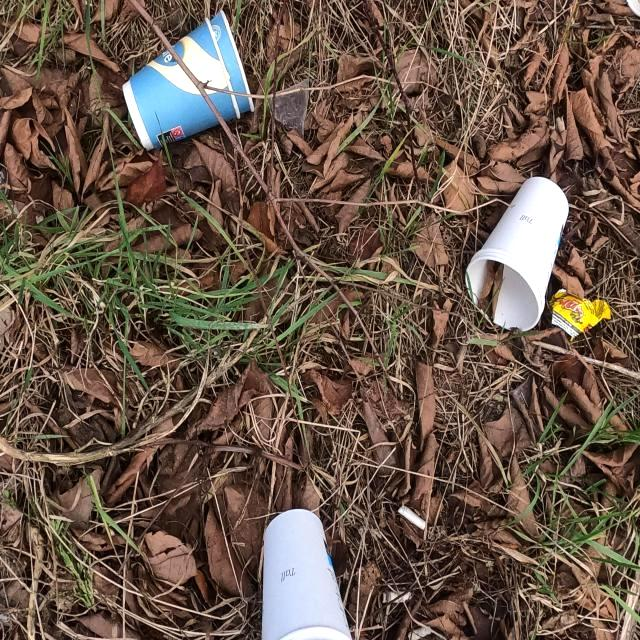Coffee Cup: (121, 9, 255, 153), (464, 175, 570, 332), (261, 508, 353, 640)
Plastic: (548, 287, 612, 343)
